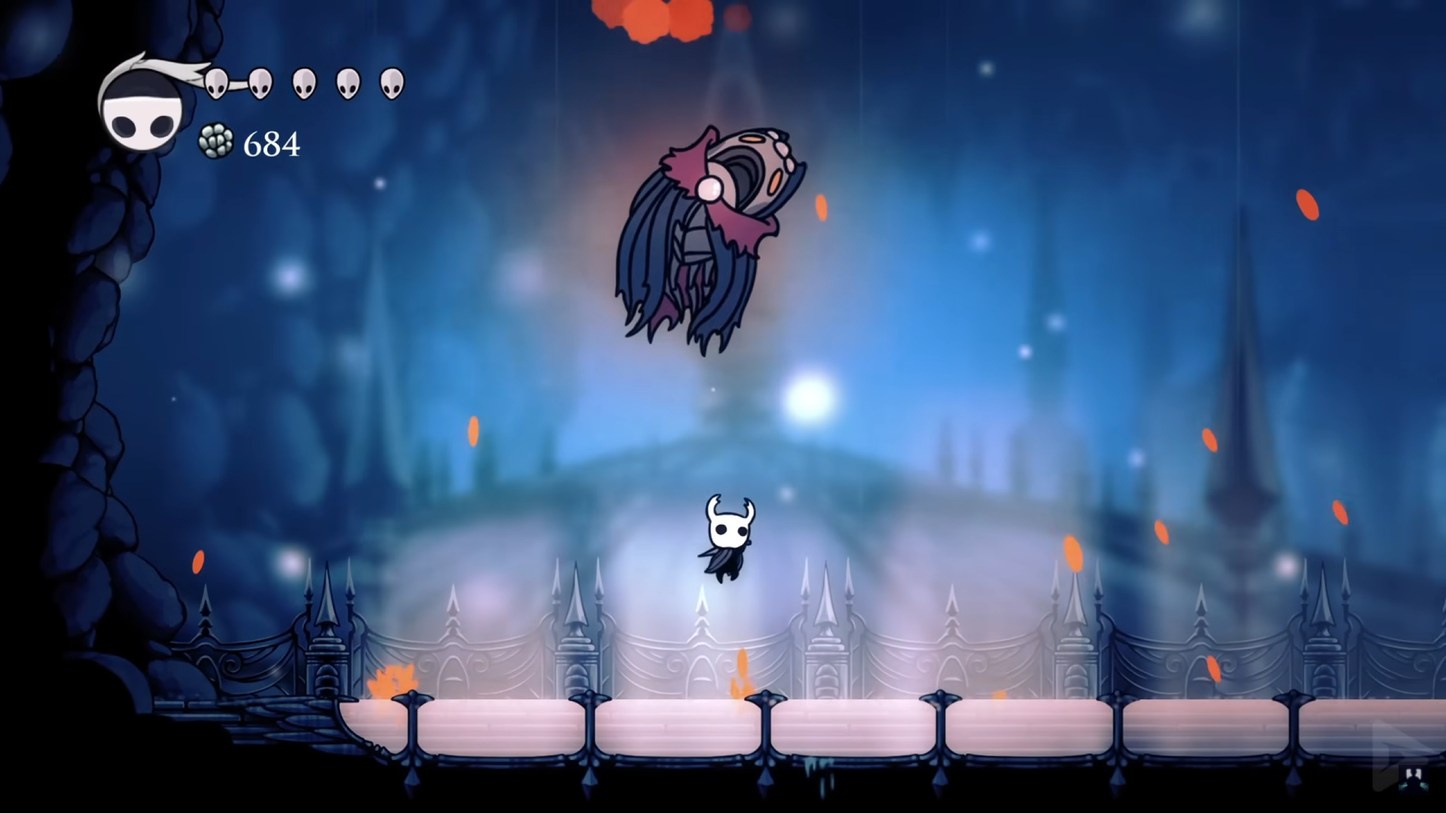HK: (697, 487, 760, 585)
